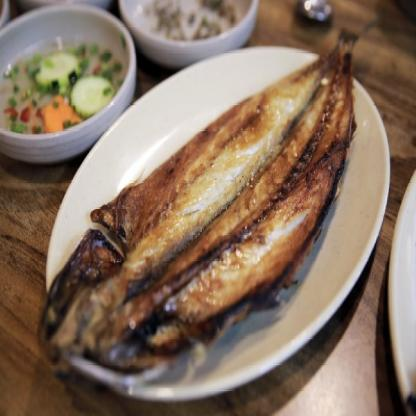Peixe: (26, 23, 384, 389)
